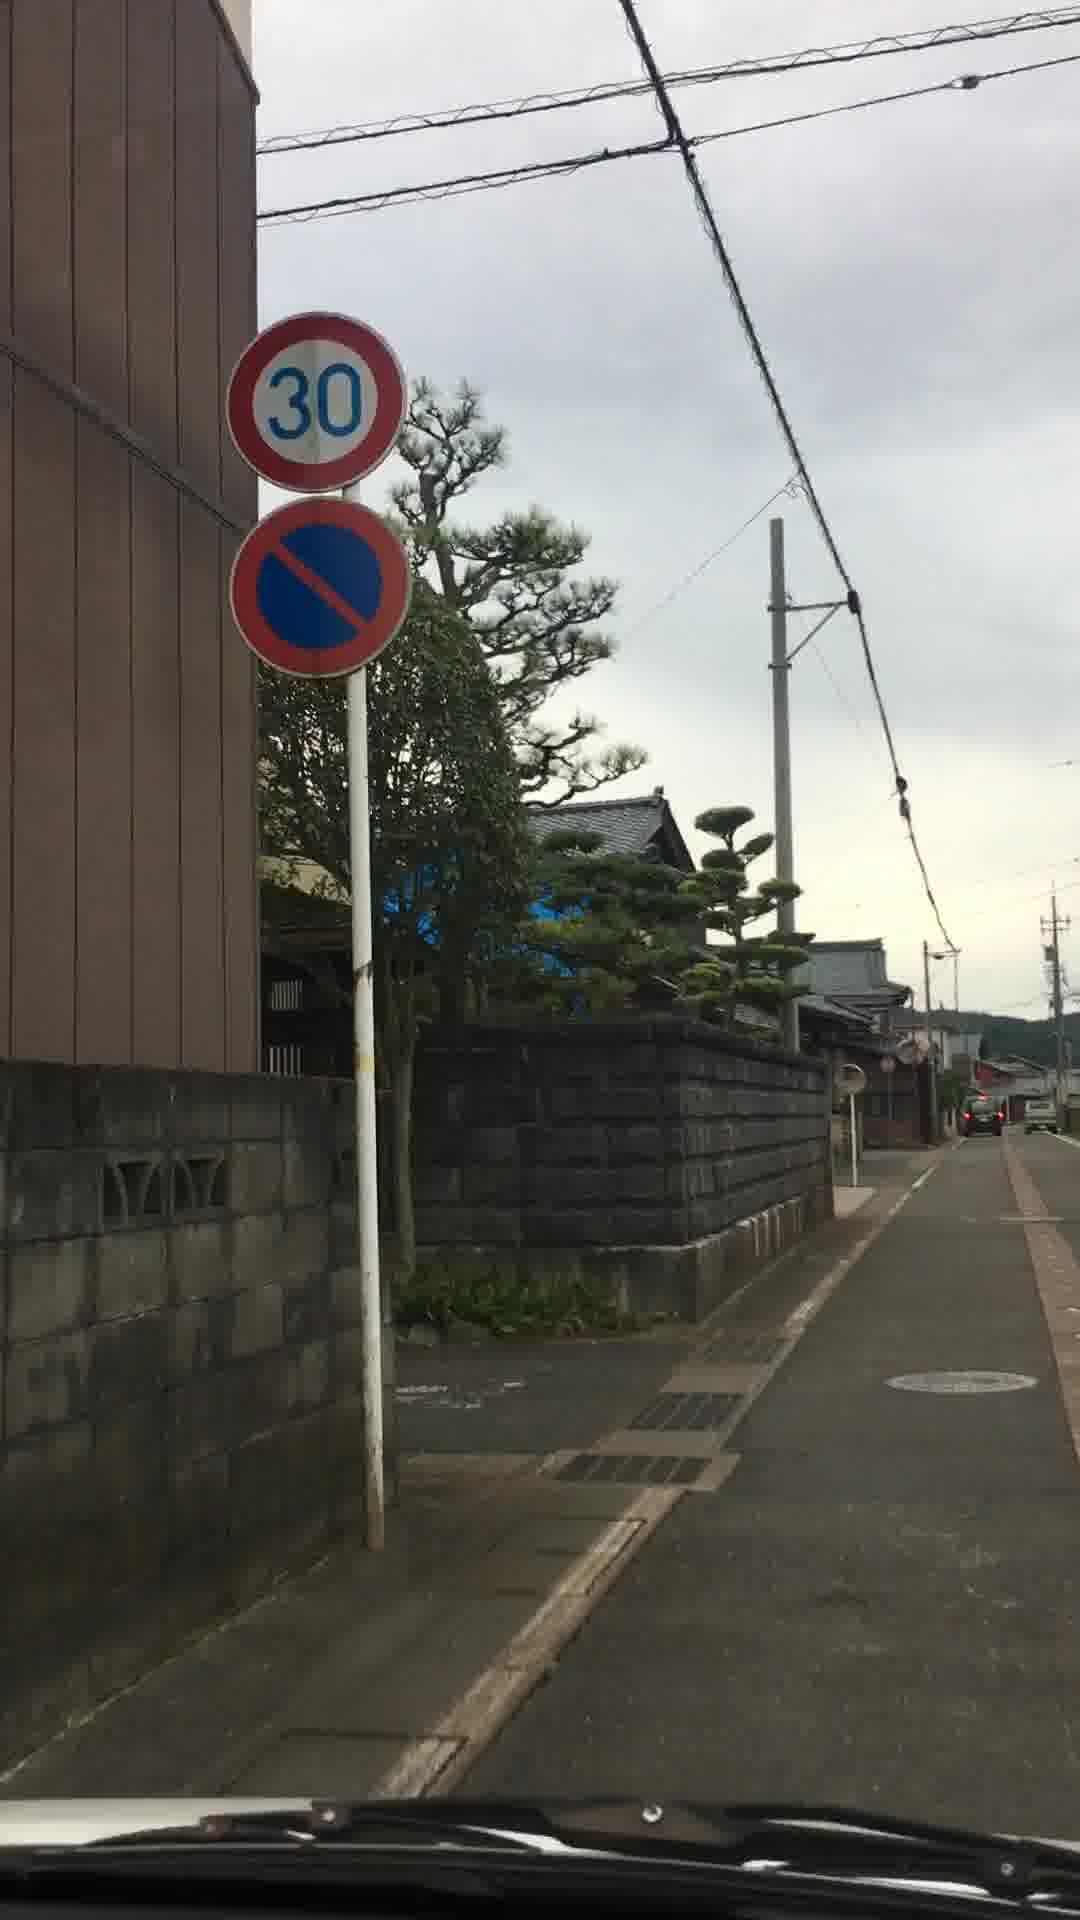Prohibition_sign: (214, 496, 460, 712)
Speed_sign: (212, 294, 422, 488)
